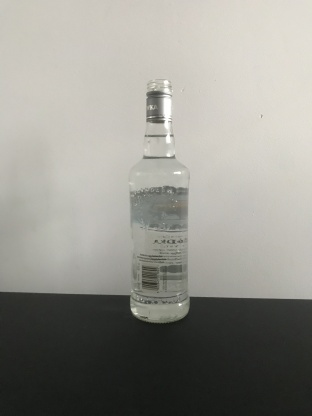nakretka: (144, 76, 174, 124)
